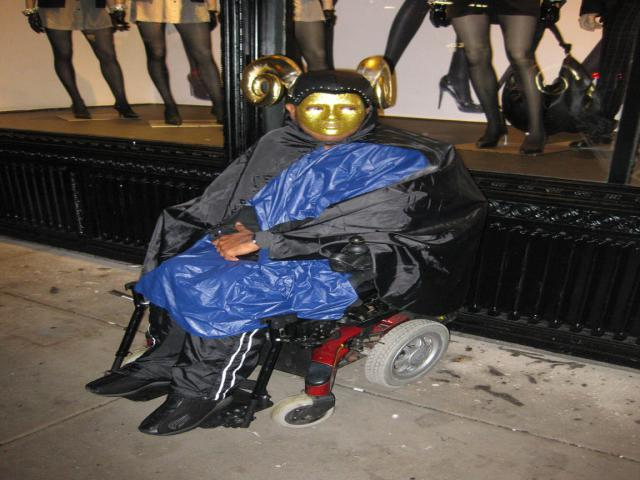Door-handle: (230, 54, 311, 110)
